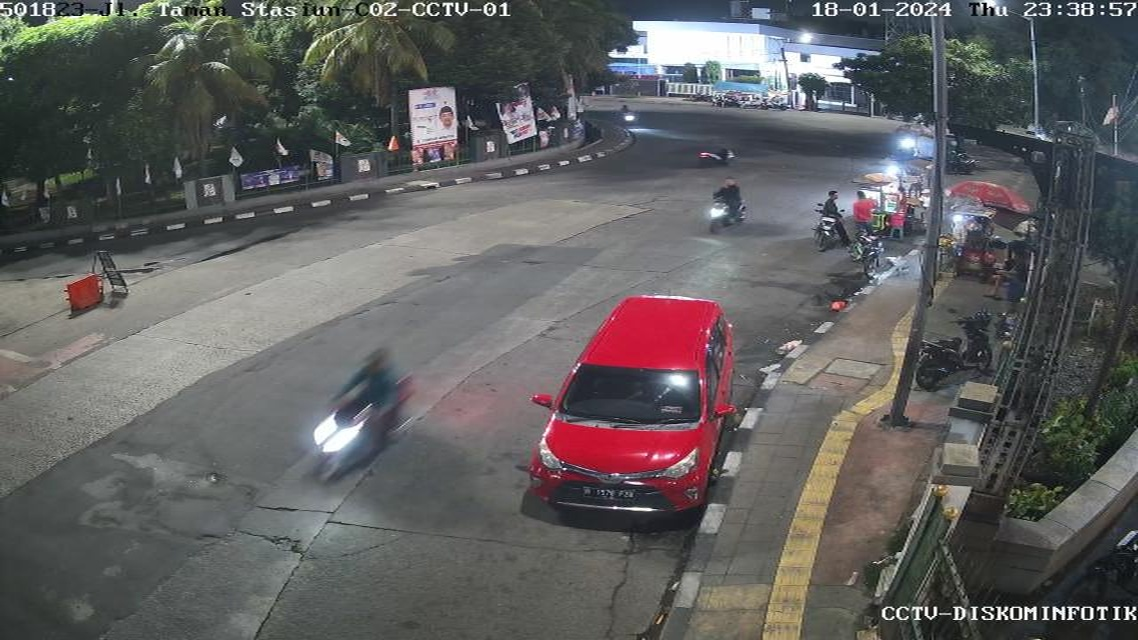Gerobak: (850, 171, 909, 238), (951, 199, 994, 278)
